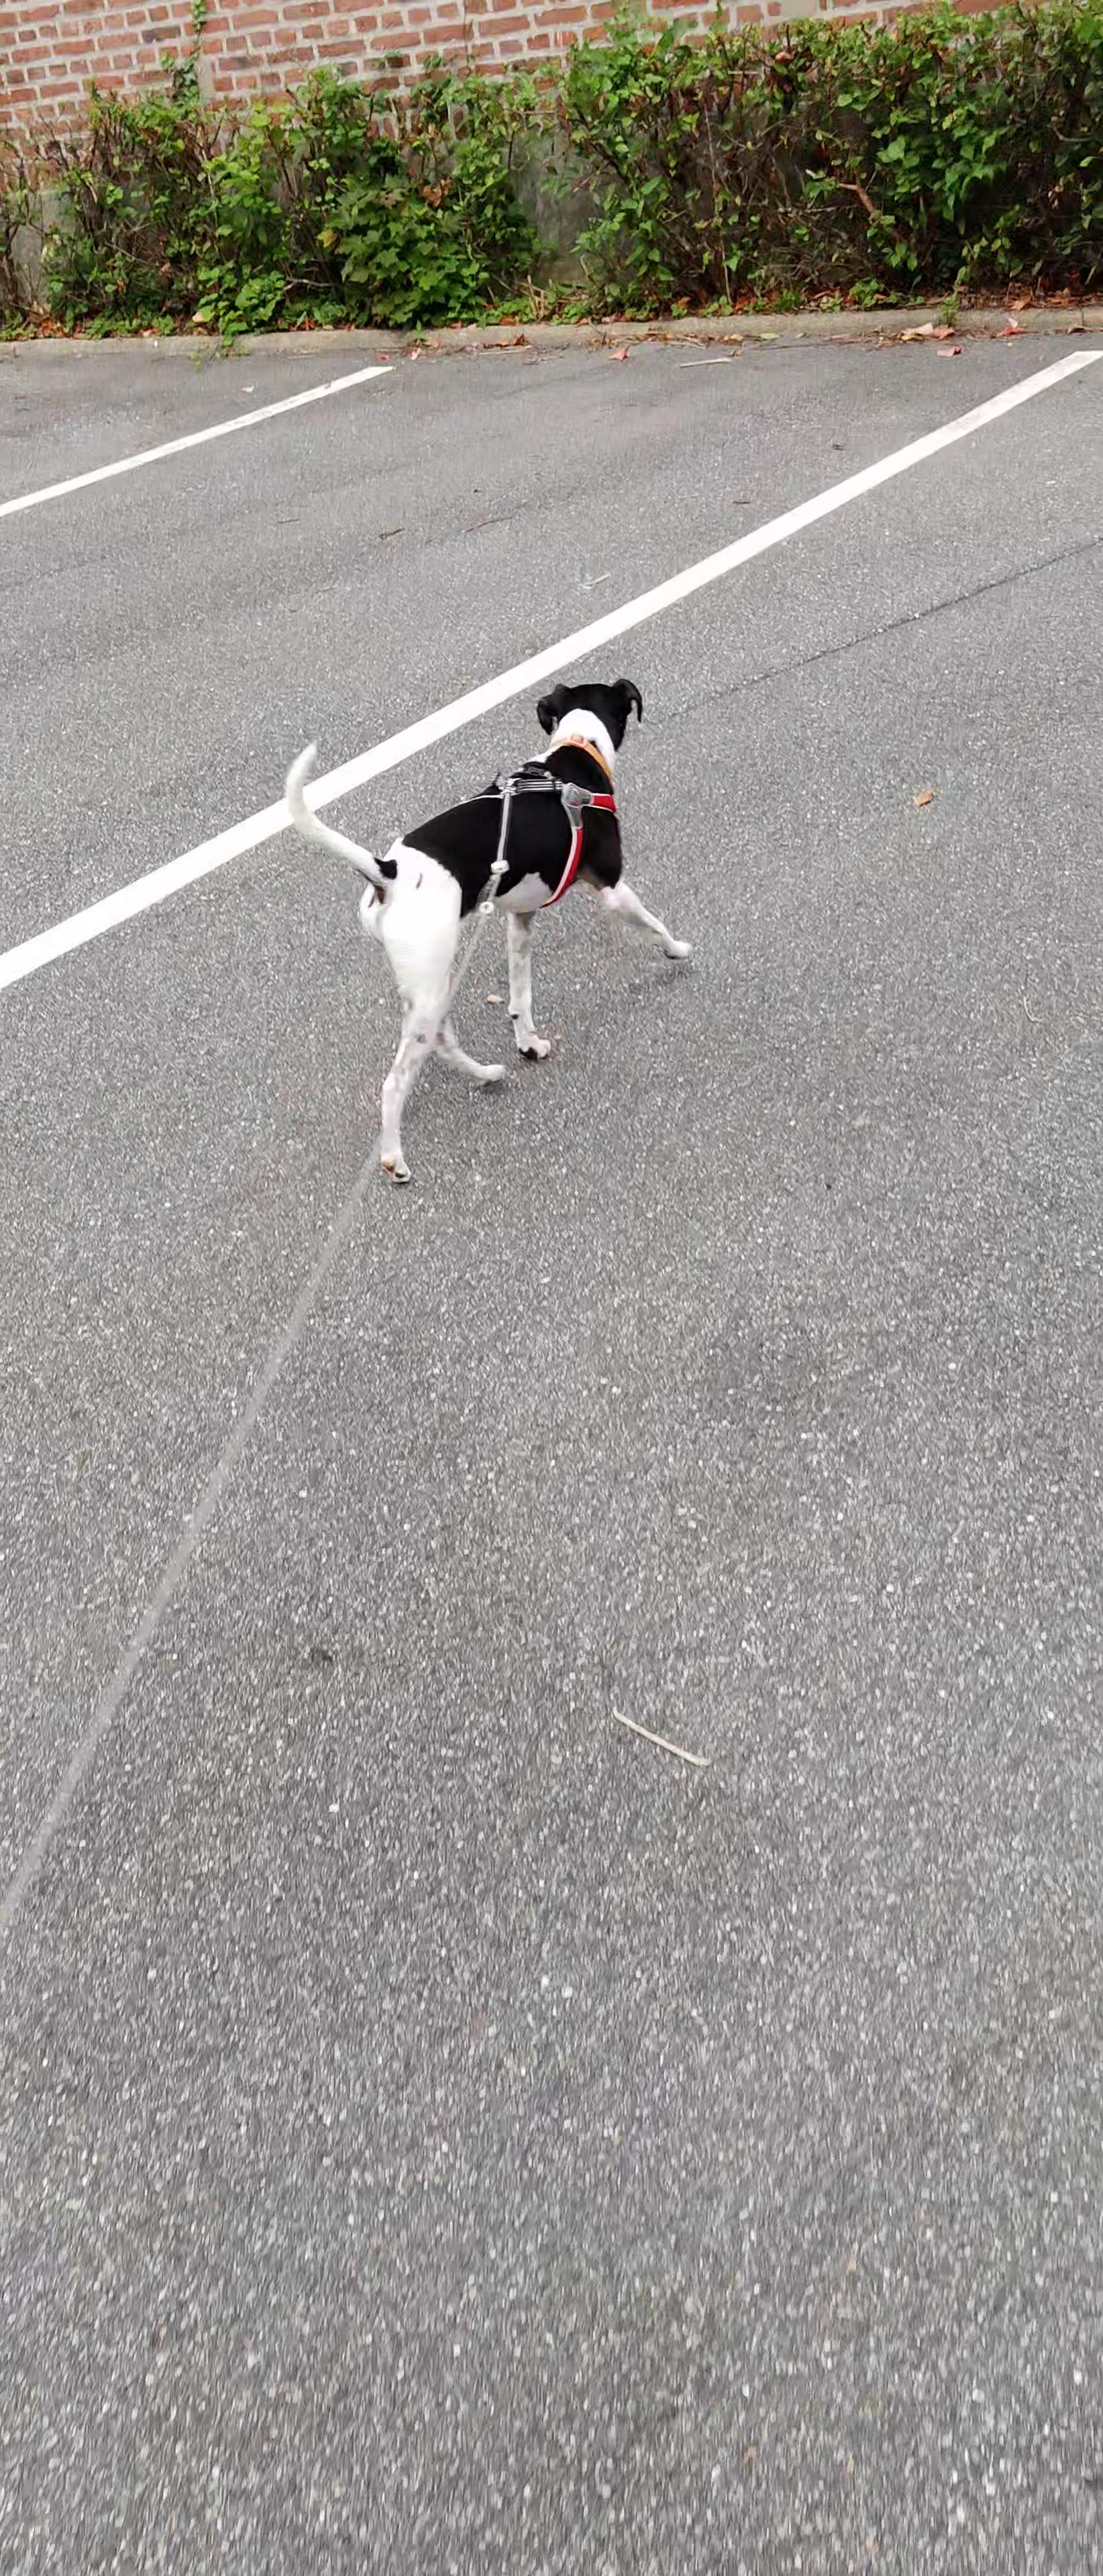Dog: (266, 664, 718, 1193)
